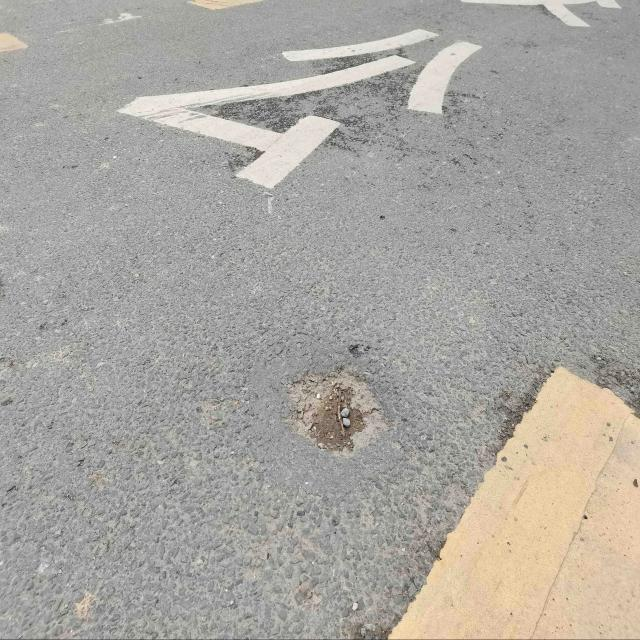Pothole: (292, 369, 394, 462)
